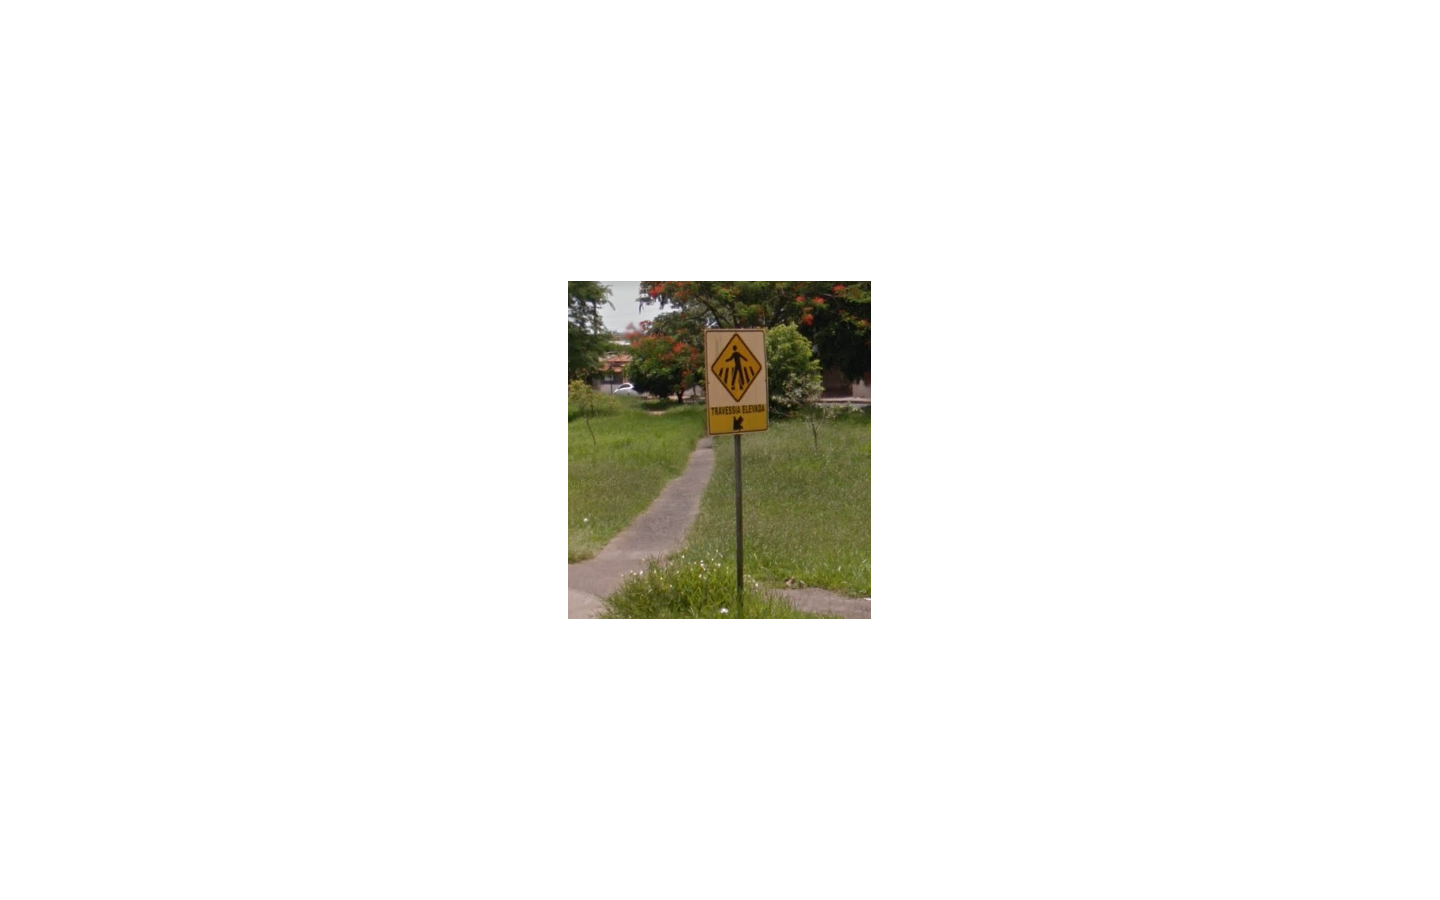telev: (704, 329, 768, 437)
